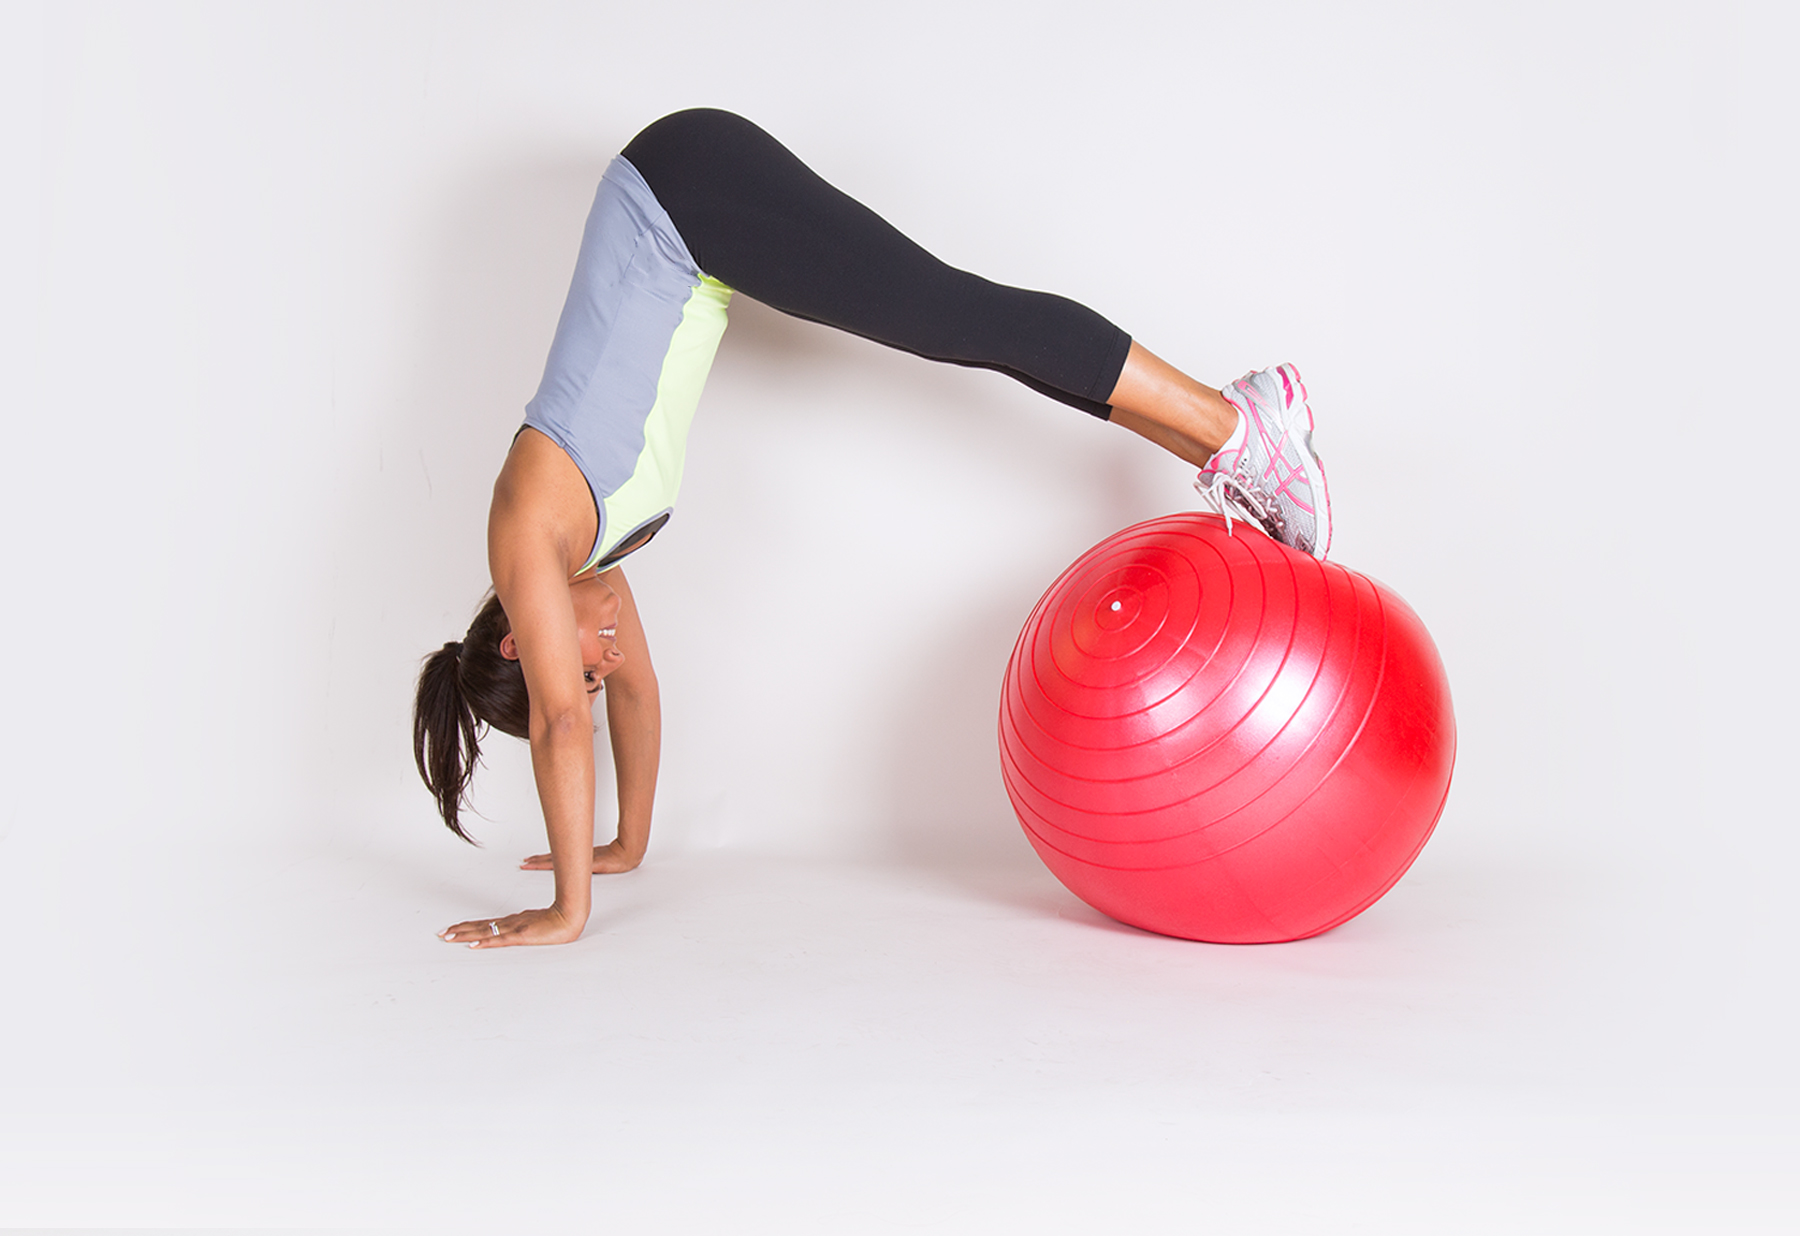yogaball: (994, 498, 1451, 967)
